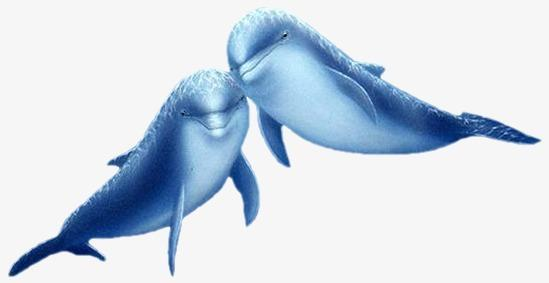fish: (5, 74, 259, 278), (227, 2, 542, 153)
